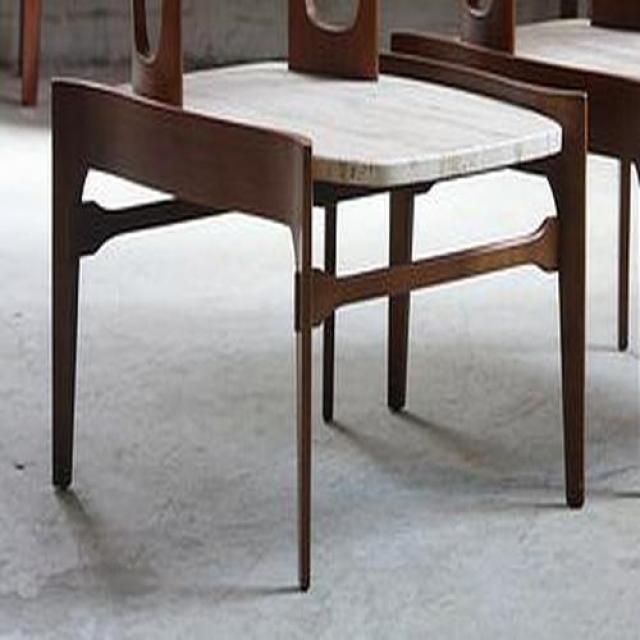table: (51, 61, 586, 594)
